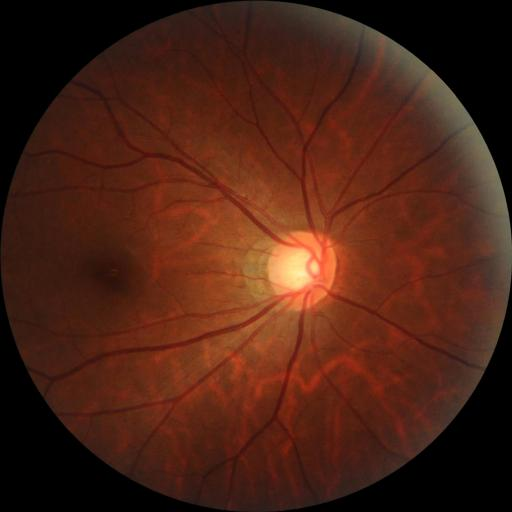Optic Cup: (286, 251, 321, 288)
Optic Disc: (267, 231, 337, 311)
